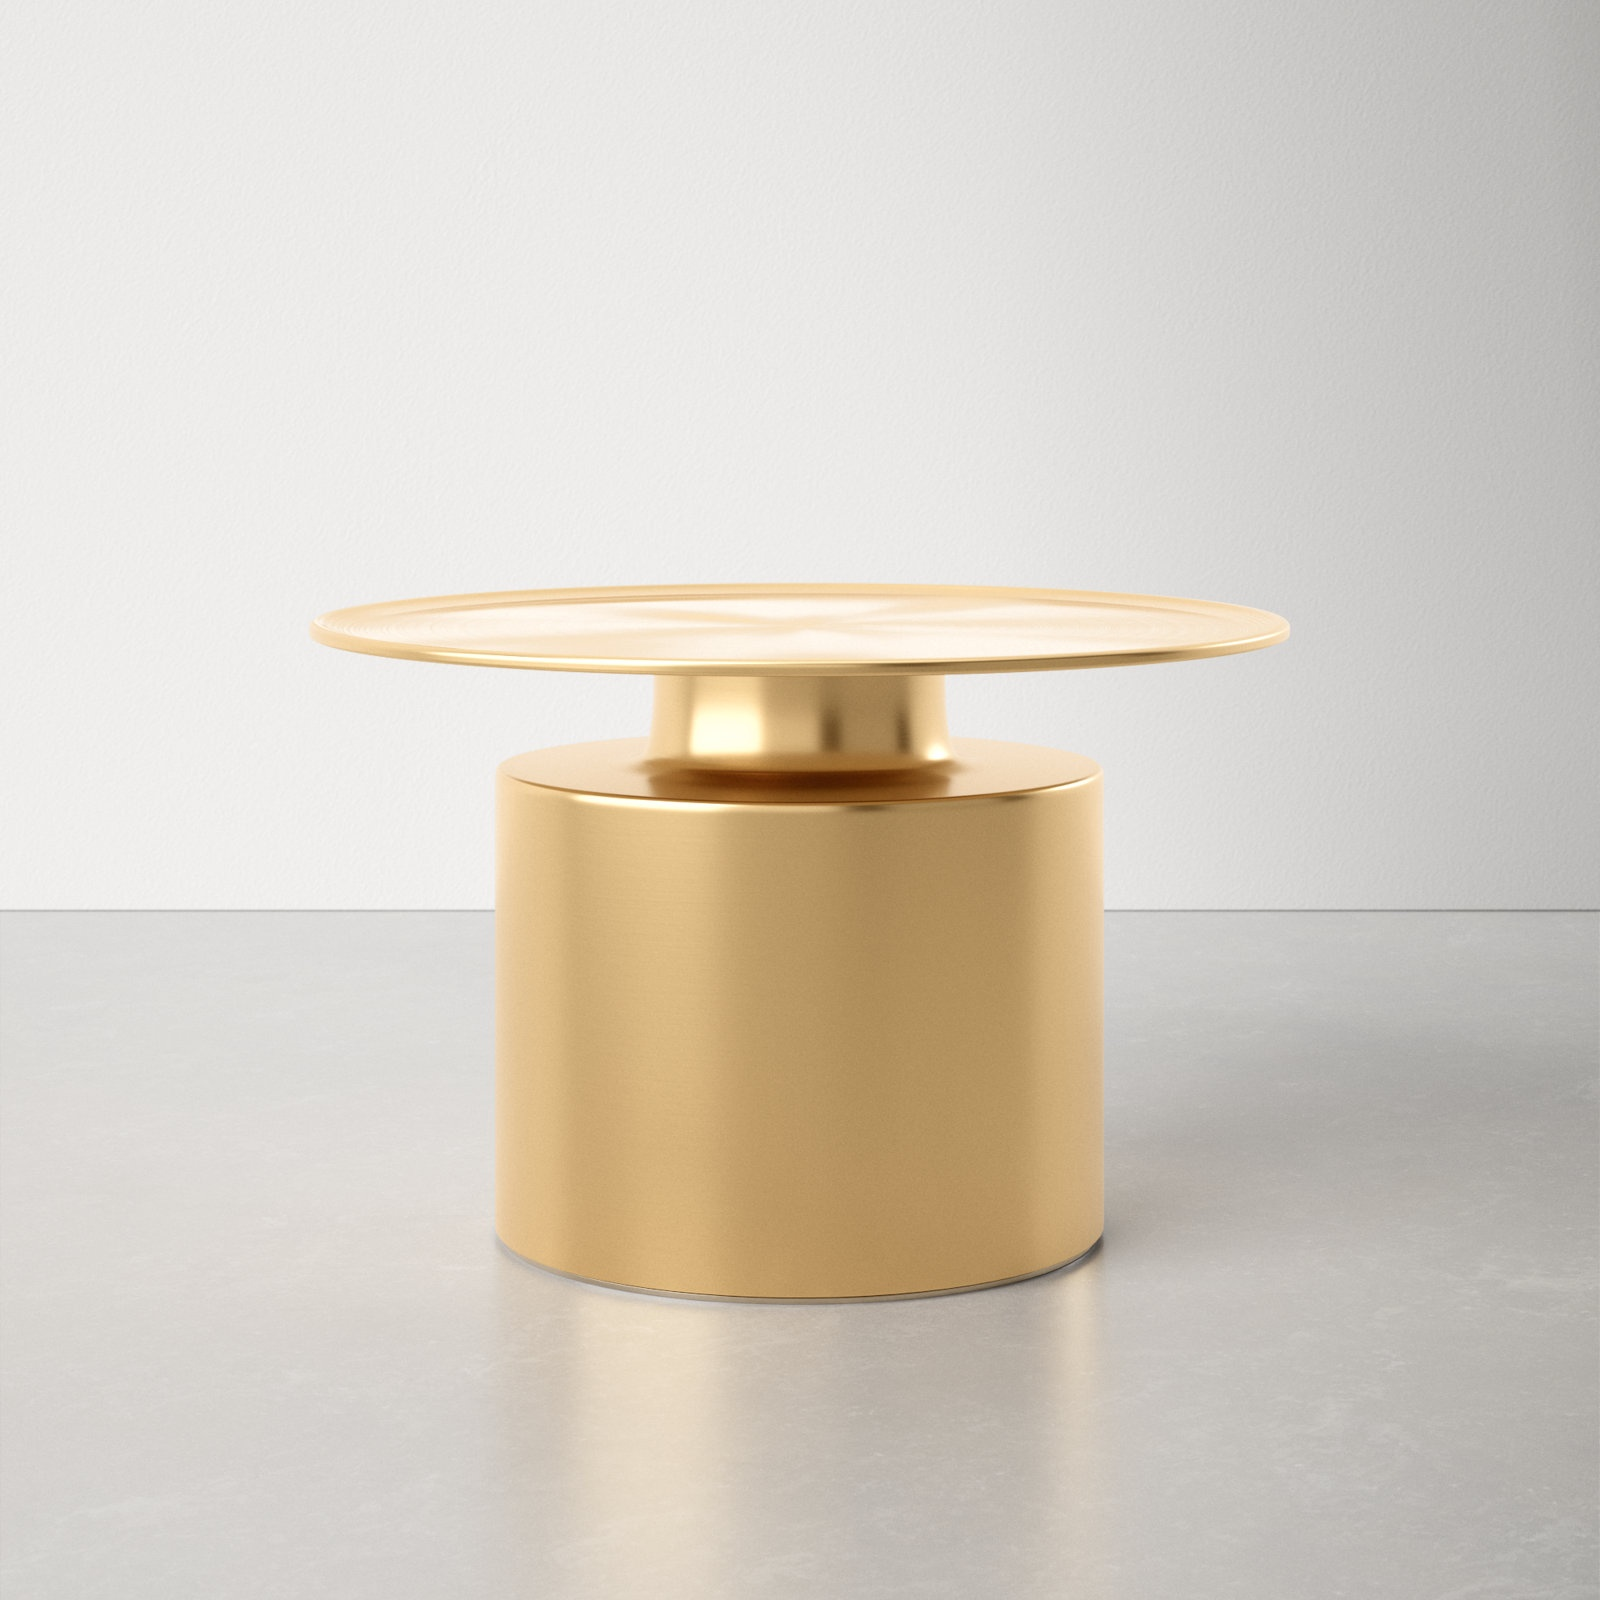obstacle: (314, 585, 1286, 1298)
